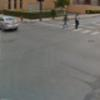crosswalks: (39, 23, 100, 37)
